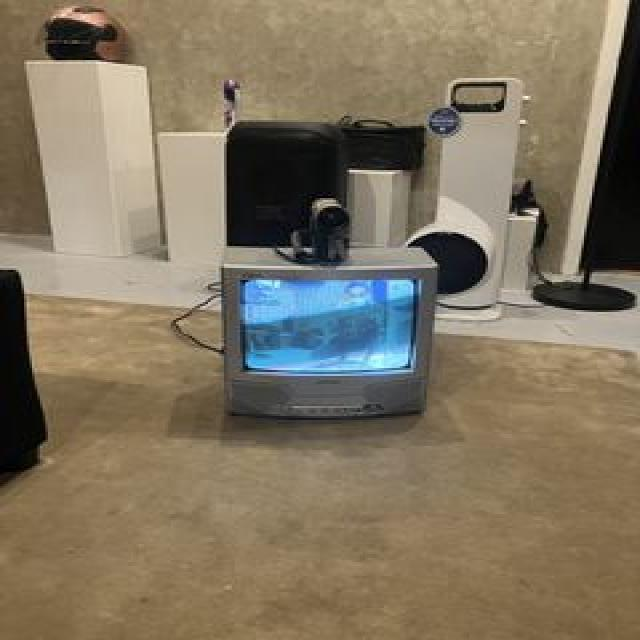electronics: (221, 246, 435, 414), (531, 2, 635, 310), (533, 2, 635, 306), (405, 76, 520, 318), (27, 60, 160, 252), (245, 280, 411, 372), (227, 120, 344, 242), (339, 116, 419, 242), (405, 198, 491, 300), (155, 130, 221, 262), (0, 270, 43, 472), (419, 200, 491, 292), (499, 180, 544, 302), (499, 192, 544, 302), (499, 200, 544, 302), (43, 4, 123, 60), (347, 168, 405, 242), (352, 166, 405, 242), (280, 198, 347, 258), (339, 116, 419, 166), (531, 272, 635, 310), (499, 206, 539, 302), (171, 280, 219, 352), (347, 192, 403, 240), (307, 198, 347, 260), (512, 180, 547, 236), (221, 80, 235, 128), (365, 172, 405, 180), (475, 292, 491, 306), (485, 306, 491, 312)
fans: (171, 280, 219, 346)
